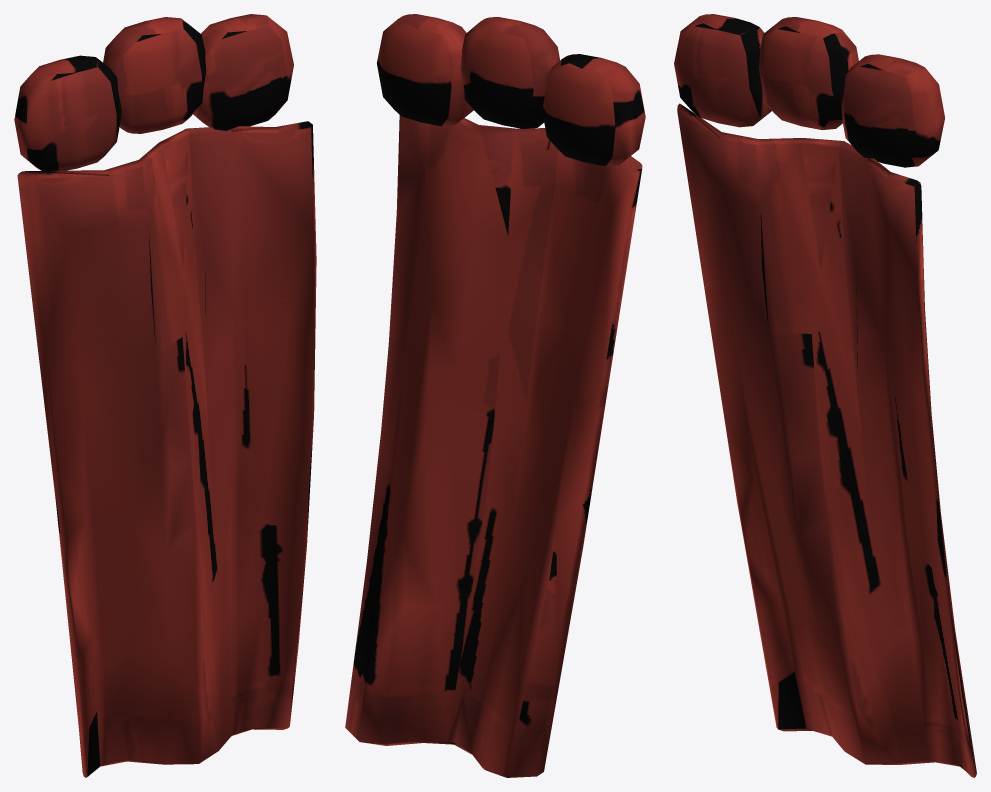
File: Tano_Trapo.fbx
The picture shows the model from 3 angles, left to right: view 1: azimuth 30°, elevation 25°; view 2: azimuth 150°, elevation 25°; view 3: azimuth 330°, elevation 25°; orthographic projection. The views are drawn at different scales.
Parts seen in each view (by area): view 1: Tano_Trapo; view 2: Tano_Trapo; view 3: Tano_Trapo.
Part boxes in pixels (x1,y1,x2,y2): Tano_Trapo: (14,14,316,777); Tano_Trapo: (345,14,645,777); Tano_Trapo: (674,14,976,777).
Bounding box in the file's own units: 0.6073 × 1.52 × 0.2039.
